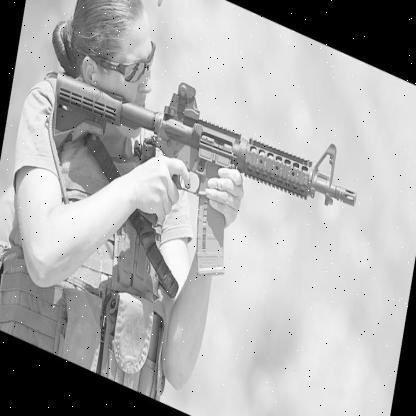rifle: (36, 42, 370, 337)
